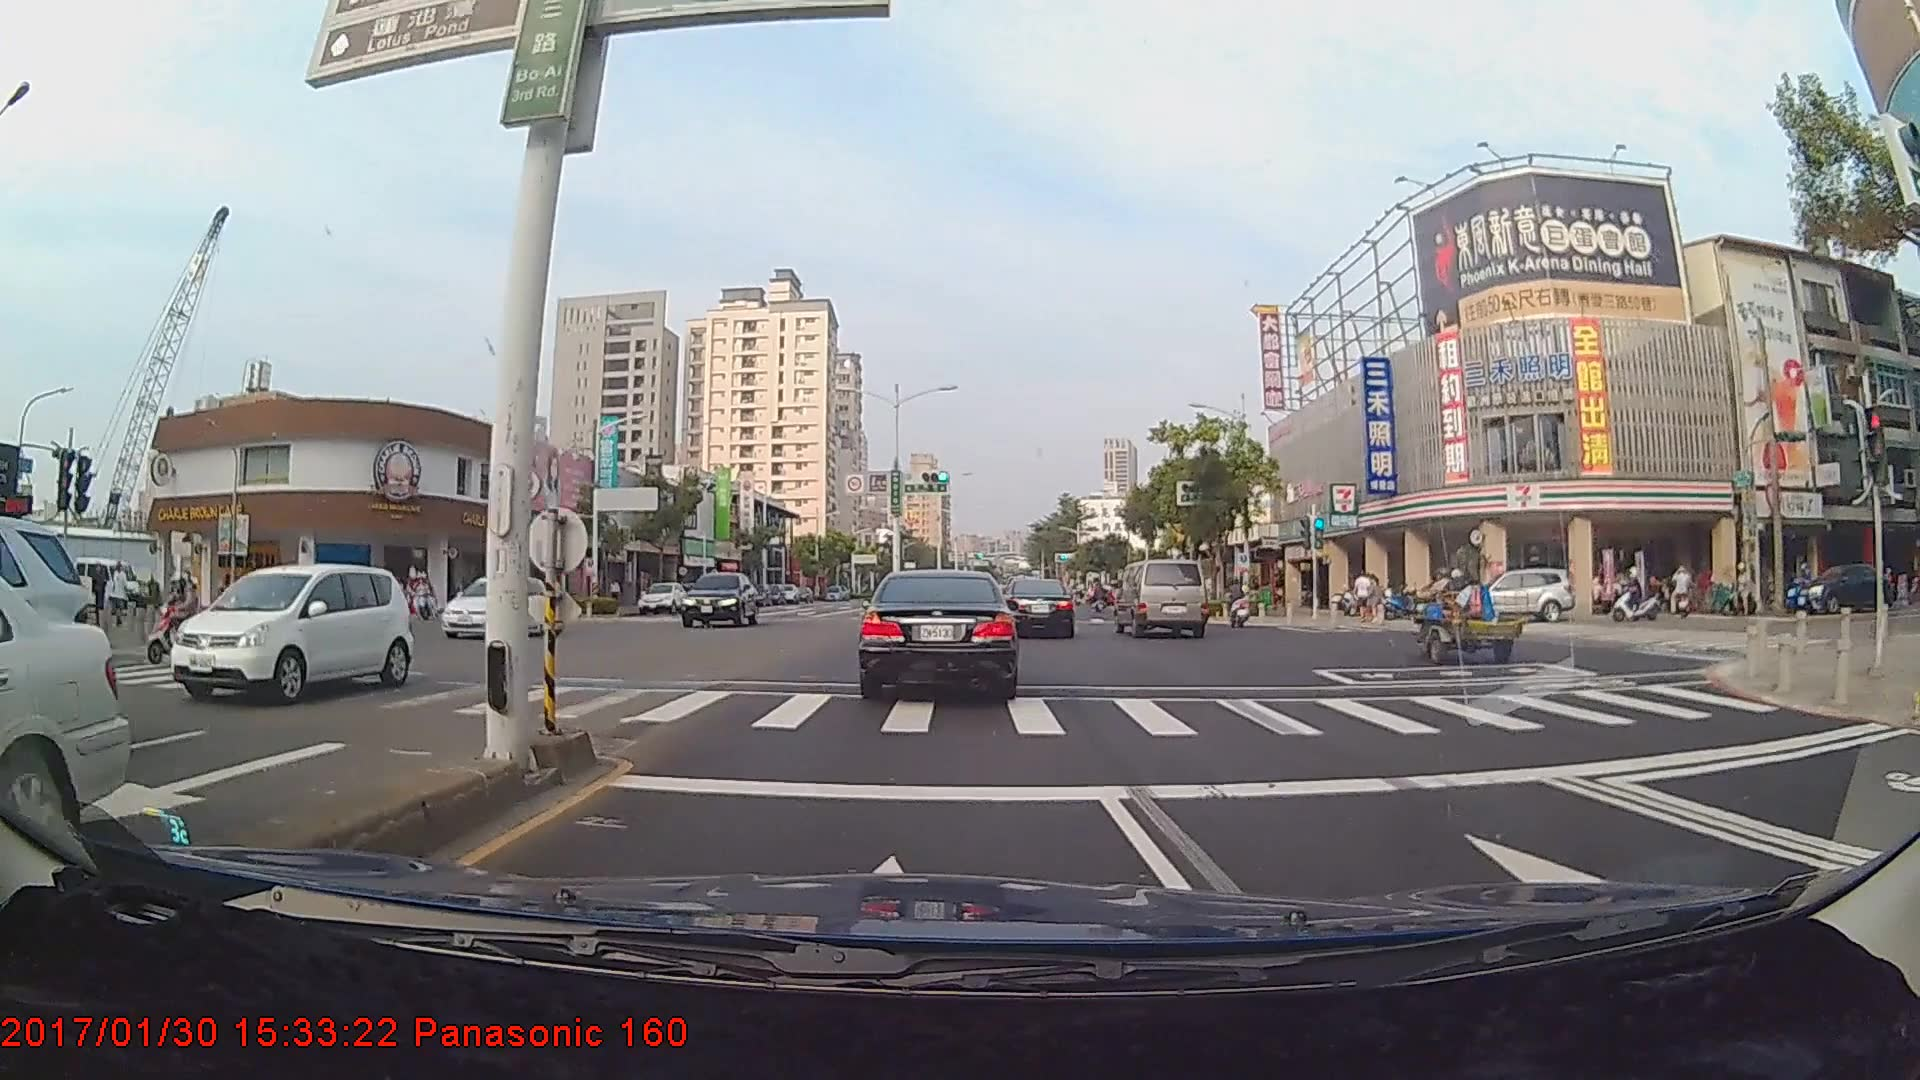pedestrian: (105, 561, 133, 629), (91, 561, 111, 624), (1353, 569, 1373, 621)
rider: (136, 567, 224, 669), (1607, 565, 1672, 630), (1216, 578, 1255, 631)
vehicle: (0, 545, 109, 881), (157, 560, 409, 704), (860, 569, 1017, 702), (439, 569, 549, 639), (1431, 572, 1570, 627), (1118, 559, 1206, 639), (1002, 578, 1075, 638), (680, 572, 758, 628), (637, 581, 687, 614)
